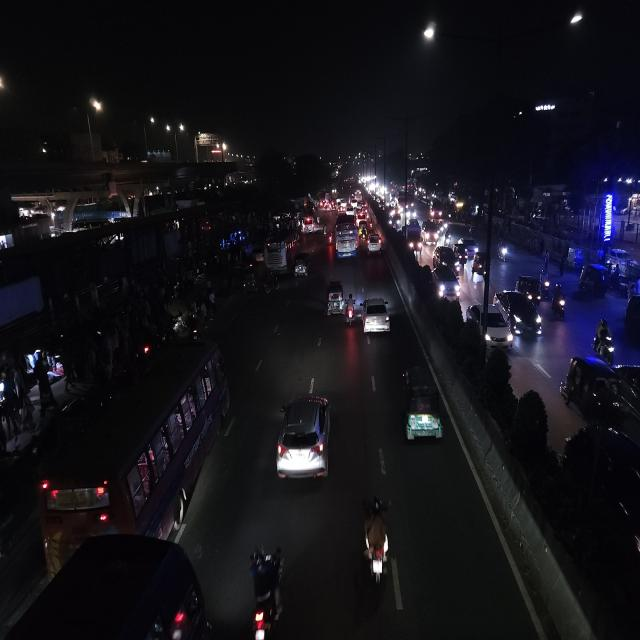bus: (34, 338, 228, 553), (264, 229, 298, 274), (333, 213, 359, 261)
car: (272, 388, 336, 493), (496, 288, 544, 342), (465, 300, 514, 352), (429, 255, 462, 304), (362, 296, 392, 341), (432, 244, 461, 274), (365, 230, 385, 256), (422, 218, 440, 244), (464, 236, 479, 257), (252, 247, 266, 265)
cng: (398, 361, 447, 455), (577, 262, 609, 299), (515, 273, 543, 305), (325, 277, 345, 318), (471, 250, 489, 284), (293, 250, 311, 282), (241, 264, 257, 294), (456, 243, 467, 266)
motorcycle: (244, 543, 288, 640), (360, 491, 394, 591), (592, 316, 616, 361), (550, 281, 568, 323), (345, 292, 357, 328), (496, 239, 510, 265), (325, 227, 333, 247)
pedestrian: (557, 254, 566, 281), (544, 250, 549, 272)
truck: (406, 218, 423, 256)
